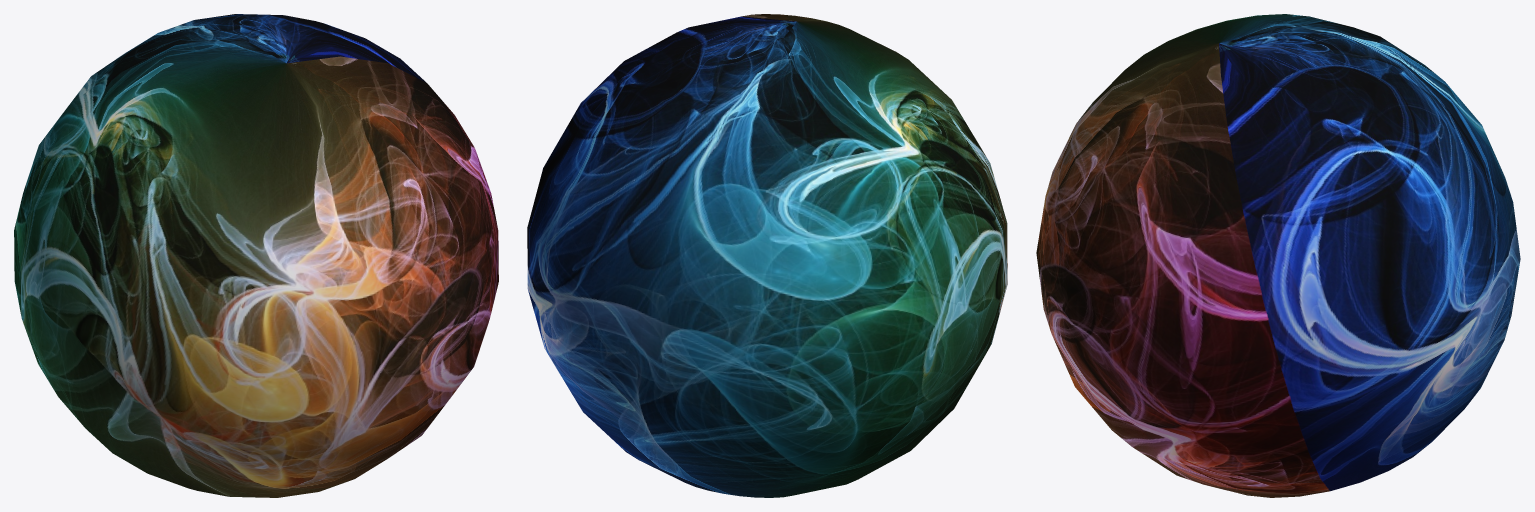
3 renders of one model, left to right at view 1: azimuth 30°, elevation 25°; view 2: azimuth 150°, elevation 25°; view 3: azimuth 270°, elevation 25°, orthographic.
Parts seen in each view (by area): view 1: Sphere; view 2: Sphere; view 3: Sphere.
Part boxes in pixels (left/top/right/bottom): Sphere: left=14, top=14, right=498, bottom=497; Sphere: left=527, top=14, right=1007, bottom=497; Sphere: left=1036, top=14, right=1520, bottom=497.
Size of the model in its own units: 200 by 200 by 200.
Materials: 1 (1 with a texture image).
